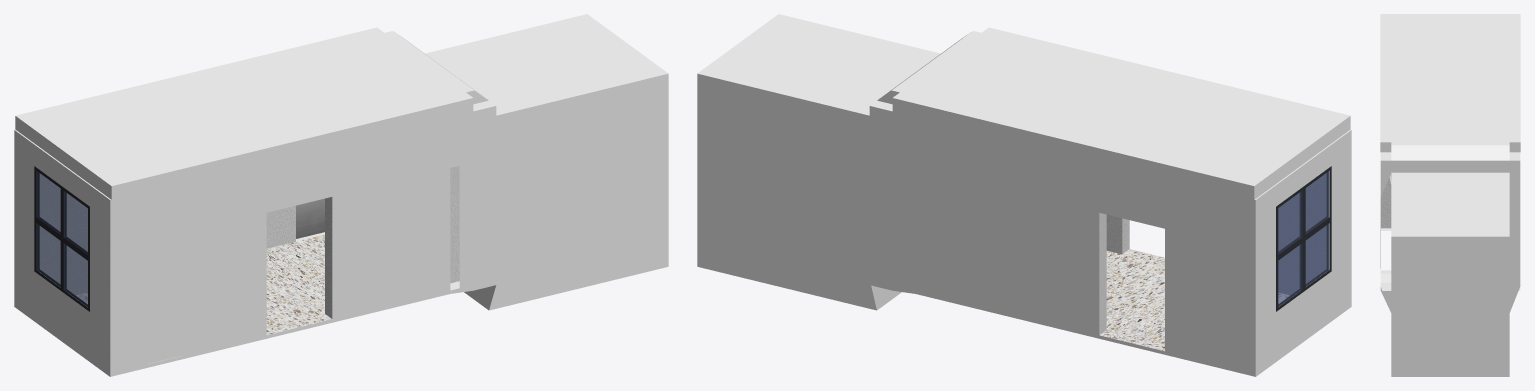
The model's file is Hall_Fix_.fbx.
3 renders of one model, left to right at view 1: azimuth 30°, elevation 25°; view 2: azimuth 150°, elevation 25°; view 3: azimuth 270°, elevation 25°, orthographic. The views are drawn at different scales.
Visible parts, largest first — view 1: Room:Room:pCube3; view 2: Room:Room:pCube3; view 3: Room:Room:pCube3.
Part boxes in pixels (box(x1,y1,x2,y2)): Room:Room:pCube3: box(14, 14, 668, 376); Room:Room:pCube3: box(697, 14, 1351, 376); Room:Room:pCube3: box(1380, 14, 1520, 376).
Bounding box in the file's own units: 162 × 61.09 × 47.68.
Materials: 7 (3 with a texture image).
